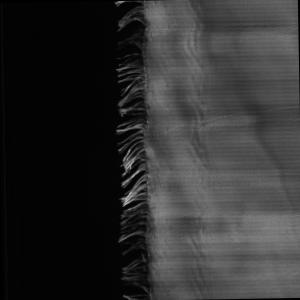Damage: (101, 1, 169, 300)
Wrinkle: (182, 1, 300, 256)
